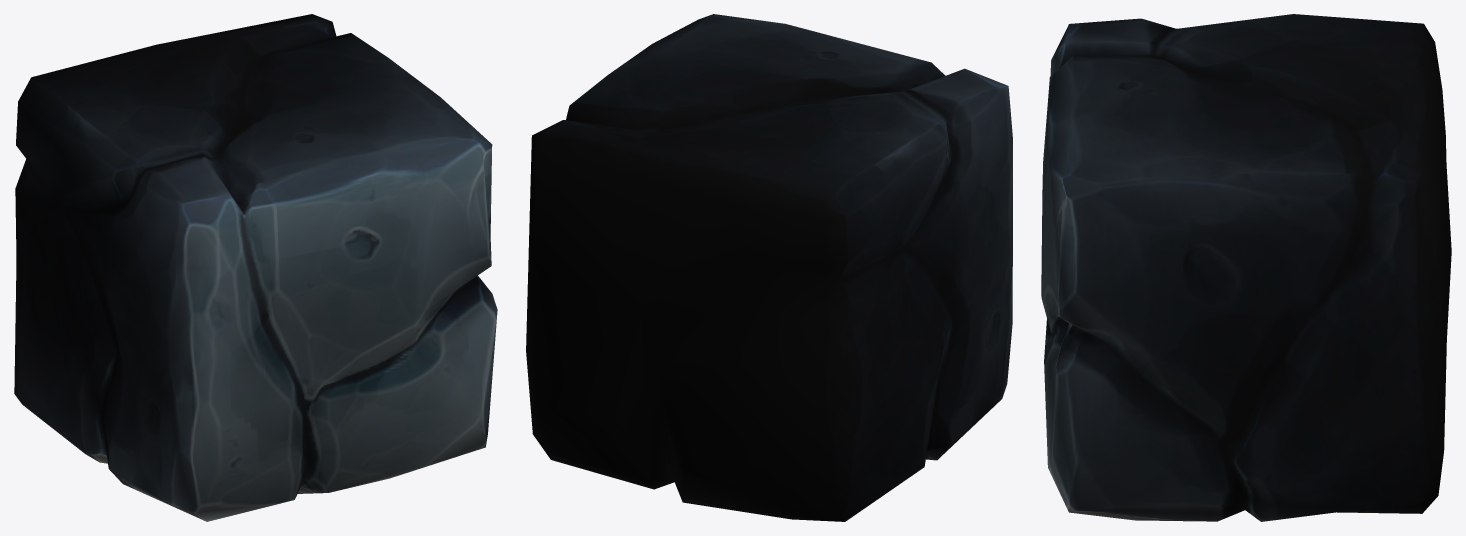
File: rock3 1.fbx
3 views of the same model, side by side, from view 1: azimuth 30°, elevation 25°; view 2: azimuth 150°, elevation 25°; view 3: azimuth 270°, elevation 25° (orthographic). The views are drawn at different scales.
Parts seen in each view (by area): view 1: Cube.002; view 2: Cube.002; view 3: Cube.002.
Boxes of the visible parts, box(x1,y1,x2,y2) form: Cube.002: box(14, 14, 497, 521); Cube.002: box(526, 14, 1012, 521); Cube.002: box(1041, 14, 1451, 521).
Bounding box in the file's own units: 2 × 2 × 2.
